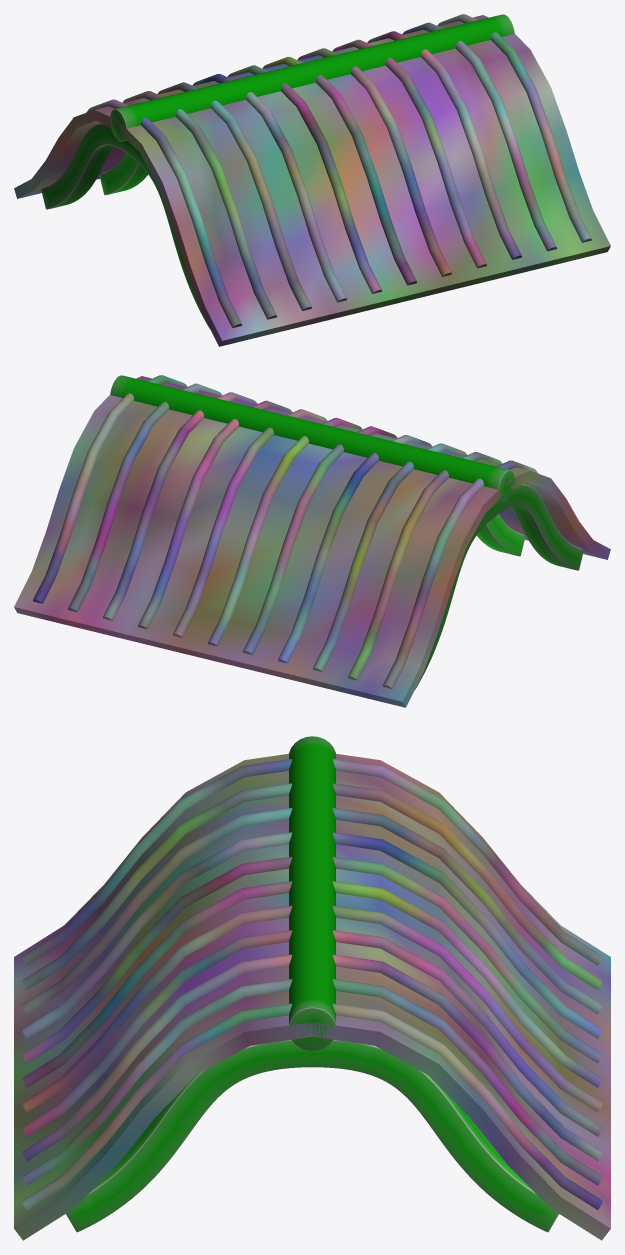
Rendered from roof_arch_2b_opp_01.fbx.
The picture shows the model from 3 angles, top to bottom: view 1: azimuth 30°, elevation 25°; view 2: azimuth 150°, elevation 25°; view 3: azimuth 270°, elevation 25°; orthographic projection. The views are drawn at different scales.
Visible parts, largest first — view 1: roof_arch_2b_opp_01; view 2: roof_arch_2b_opp_01; view 3: roof_arch_2b_opp_01.
Part boxes in pixels (bbox=[...]): roof_arch_2b_opp_01: bbox=[14, 14, 610, 346]; roof_arch_2b_opp_01: bbox=[14, 375, 610, 707]; roof_arch_2b_opp_01: bbox=[14, 736, 610, 1240].
Bounding box in the file's own units: 4 × 1.6 × 3.71.
